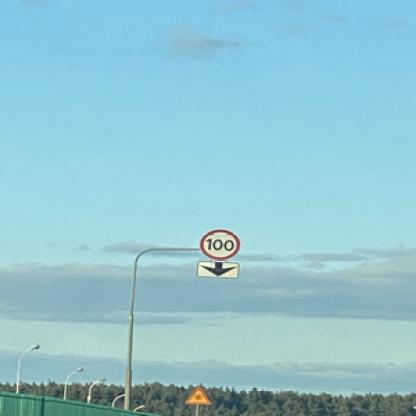Speed Limit 100: (200, 228, 239, 260)
